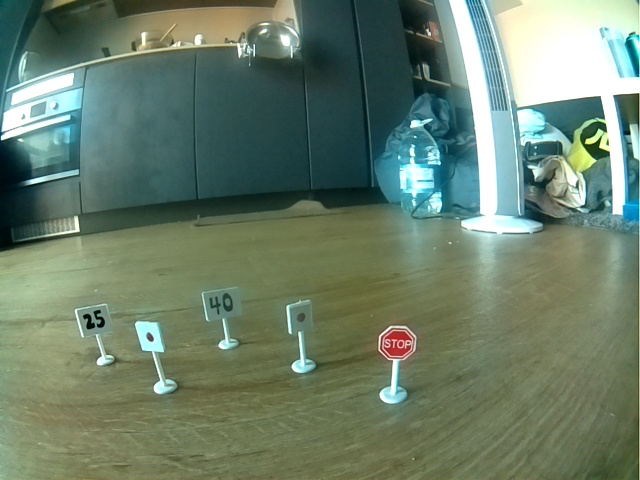red light: (137, 322, 161, 351), (289, 304, 312, 331)
speed 25: (78, 307, 109, 334)
speed 40: (204, 290, 240, 317)
stop: (381, 326, 416, 360)
